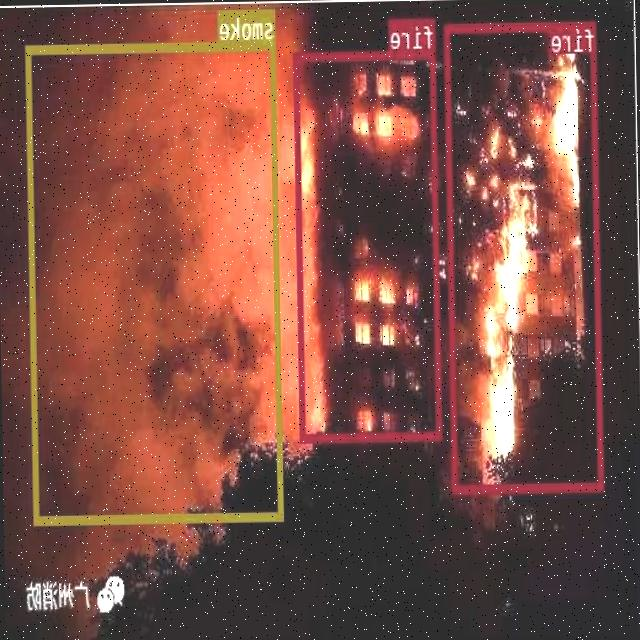fire: (446, 20, 604, 492), (294, 48, 442, 440)
smoke: (26, 40, 284, 522)
